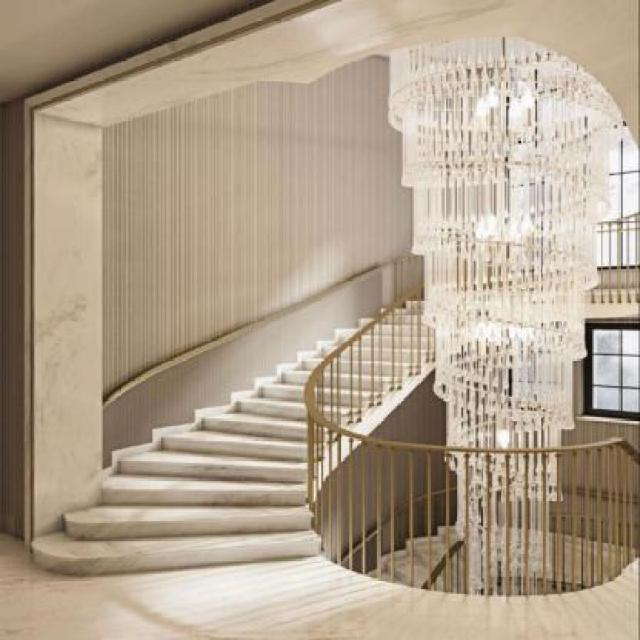stair: (22, 237, 430, 589)
